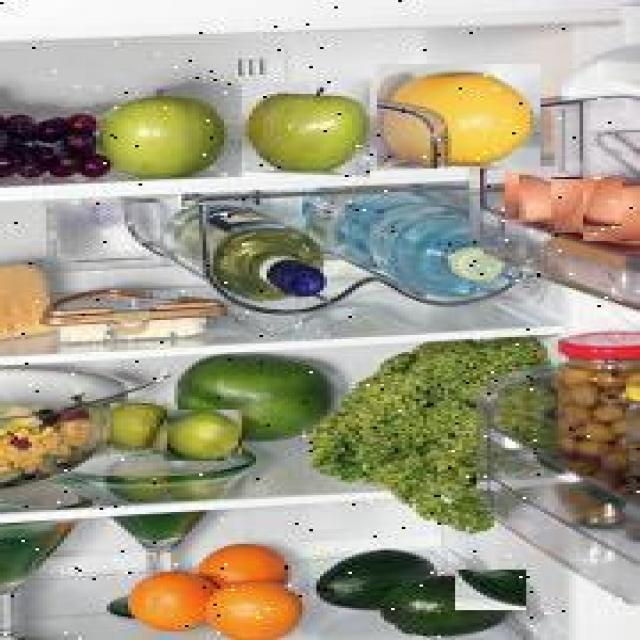apple: (379, 64, 542, 169), (100, 80, 228, 178), (242, 81, 370, 177)
avocado: (373, 569, 526, 640), (313, 546, 444, 610)
egg: (551, 178, 622, 234), (583, 187, 640, 242), (505, 173, 565, 224)
lemon: (164, 410, 242, 460), (110, 404, 167, 454)
